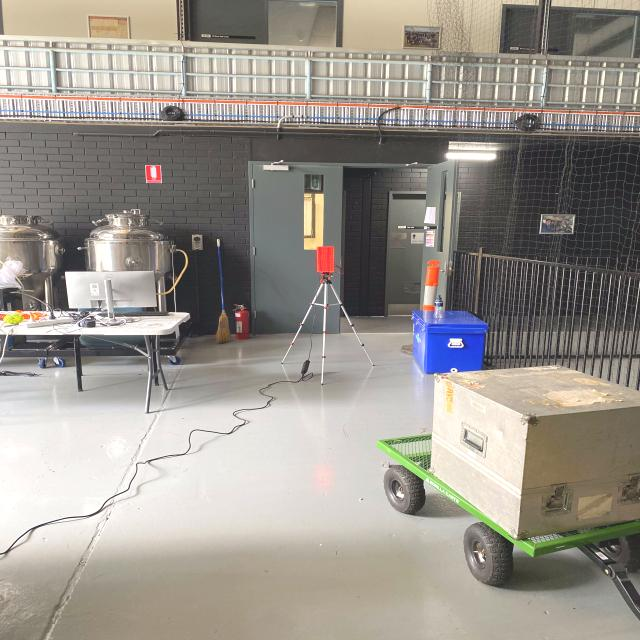matrix: (314, 242, 347, 283)
